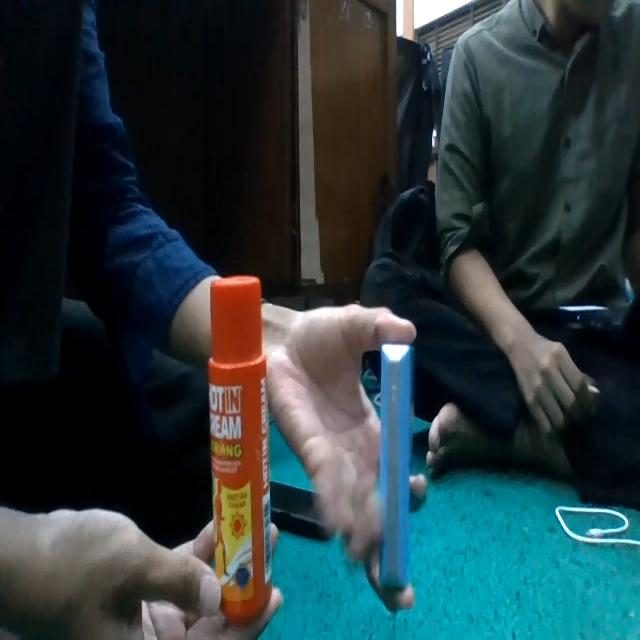Boncabe: (209, 277, 272, 622)
Powerbank: (380, 343, 414, 588)
